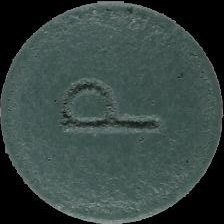63187-054: (0, 0, 224, 224)
